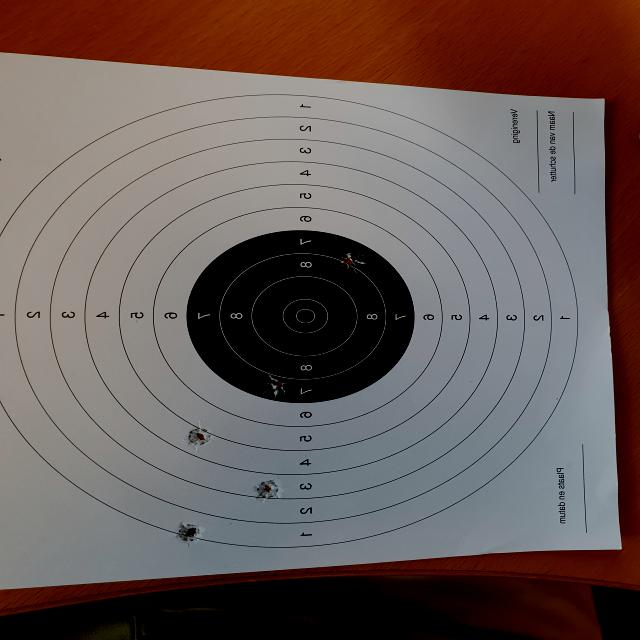1: (173, 523, 206, 544)
3: (252, 476, 280, 504)
5: (186, 427, 213, 447)
7: (260, 374, 292, 398)
8: (338, 250, 368, 272)
Target: (0, 91, 582, 547)
black_contour: (186, 230, 414, 403)
